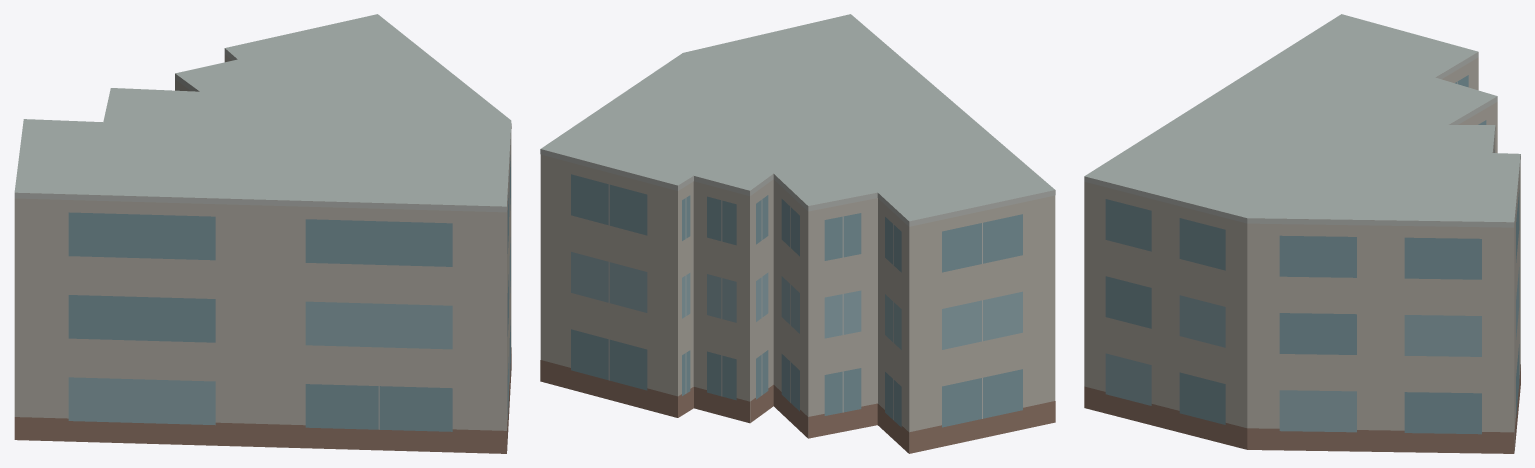
The model's file is survey-upis-32482107.glb.
3 views of the same model, side by side, from view 1: azimuth 30°, elevation 25°; view 2: azimuth 150°, elevation 25°; view 3: azimuth 270°, elevation 25° (orthographic). The views are drawn at different scales.
Parts seen in each view (by area): view 1: survey-upis-32482107.tmp; view 2: survey-upis-32482107.tmp; view 3: survey-upis-32482107.tmp.
Boxes of the visible parts, left/top/right/bottom form: survey-upis-32482107.tmp: left=14, top=14, right=511, bottom=453; survey-upis-32482107.tmp: left=540, top=14, right=1055, bottom=453; survey-upis-32482107.tmp: left=1084, top=14, right=1520, bottom=453.
Bounding box in the file's own units: 20.06 × 10.4 × 17.77.
